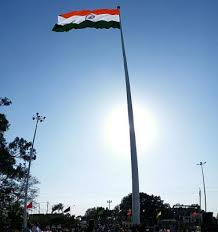flag: (48, 12, 123, 32)
